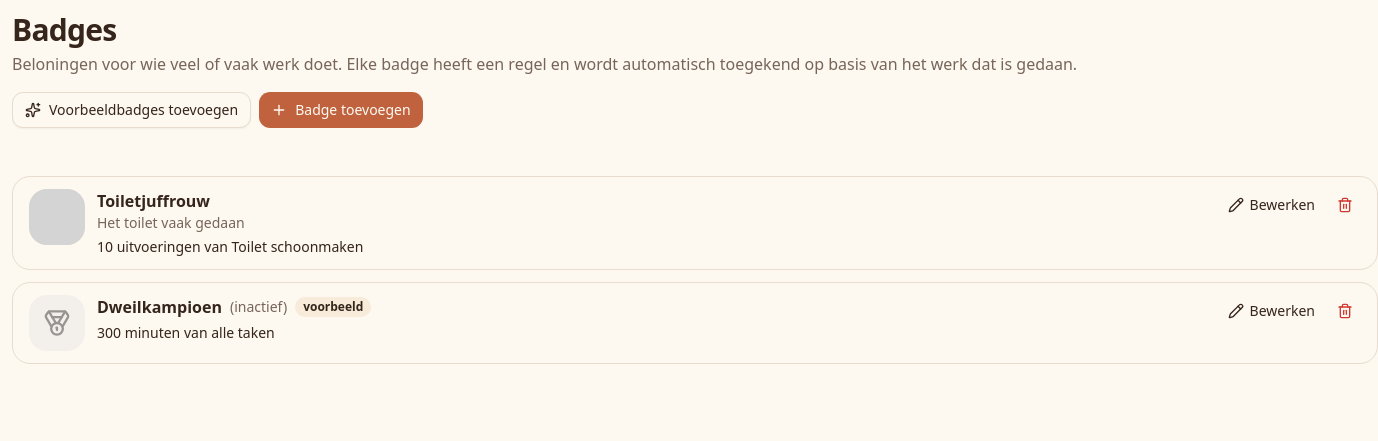
BadgesPage › adds the example badges in the interface language and says what happened, also the second time
Click the button "Voorbeeldbadges toevoegen" at point(132, 110), box [12, 92, 251, 128]
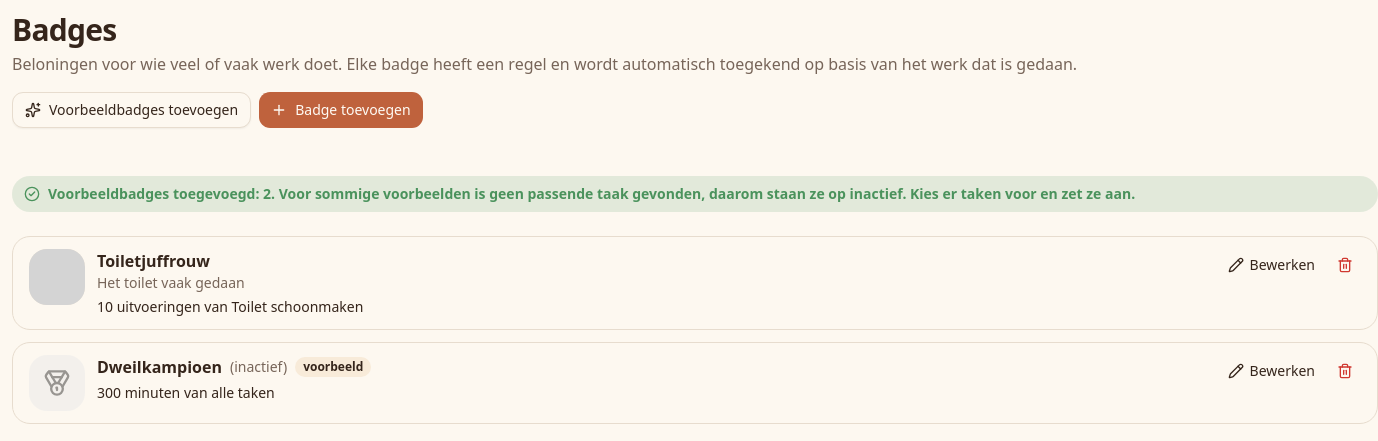
expect the message shows "staan ze op inactief": met, box [48, 184, 1135, 203]
Click the button "Voorbeeldbadges toevoegen" at point(132, 110), box [12, 92, 251, 128]
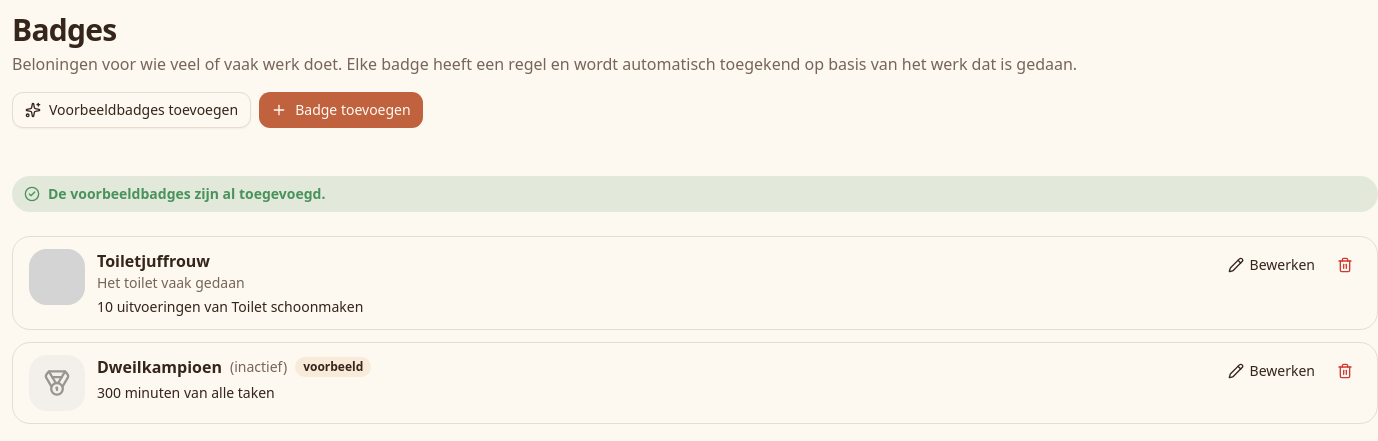
expect the message reads "De voorbeeldbadges zijn al toegevoegd.": met, box [48, 184, 326, 203]
